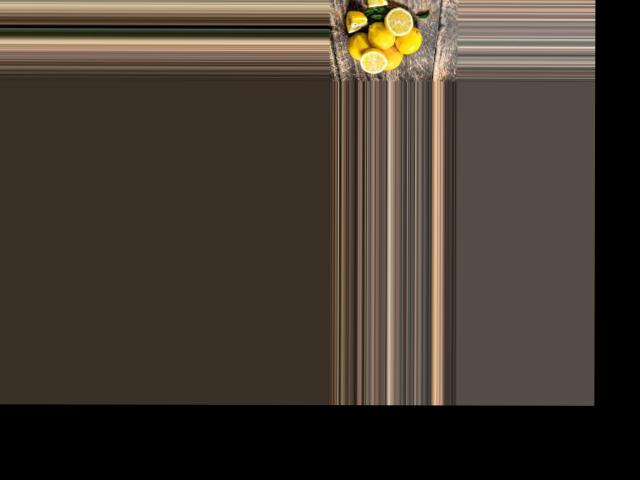lemon: (347, 30, 372, 58)
